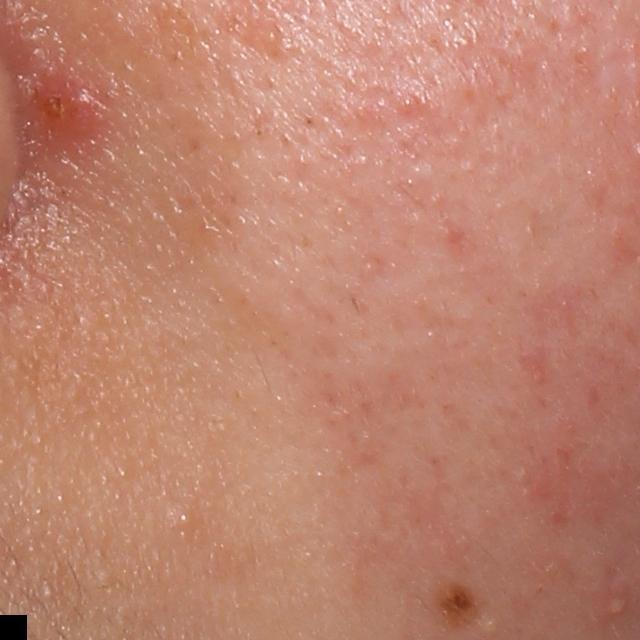comedo: (395, 94, 416, 117), (40, 584, 57, 602)
nevus: (435, 576, 479, 636)
papule: (21, 62, 117, 147)
pustule: (603, 588, 632, 624)
